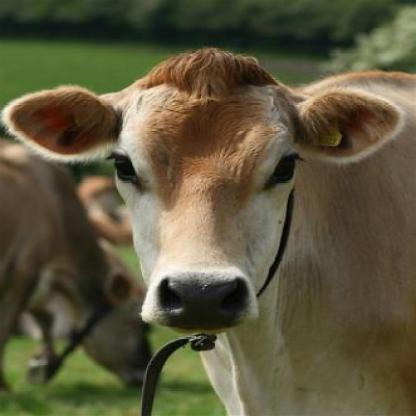mouth: (139, 273, 262, 328)
upper: (194, 298, 211, 306)
